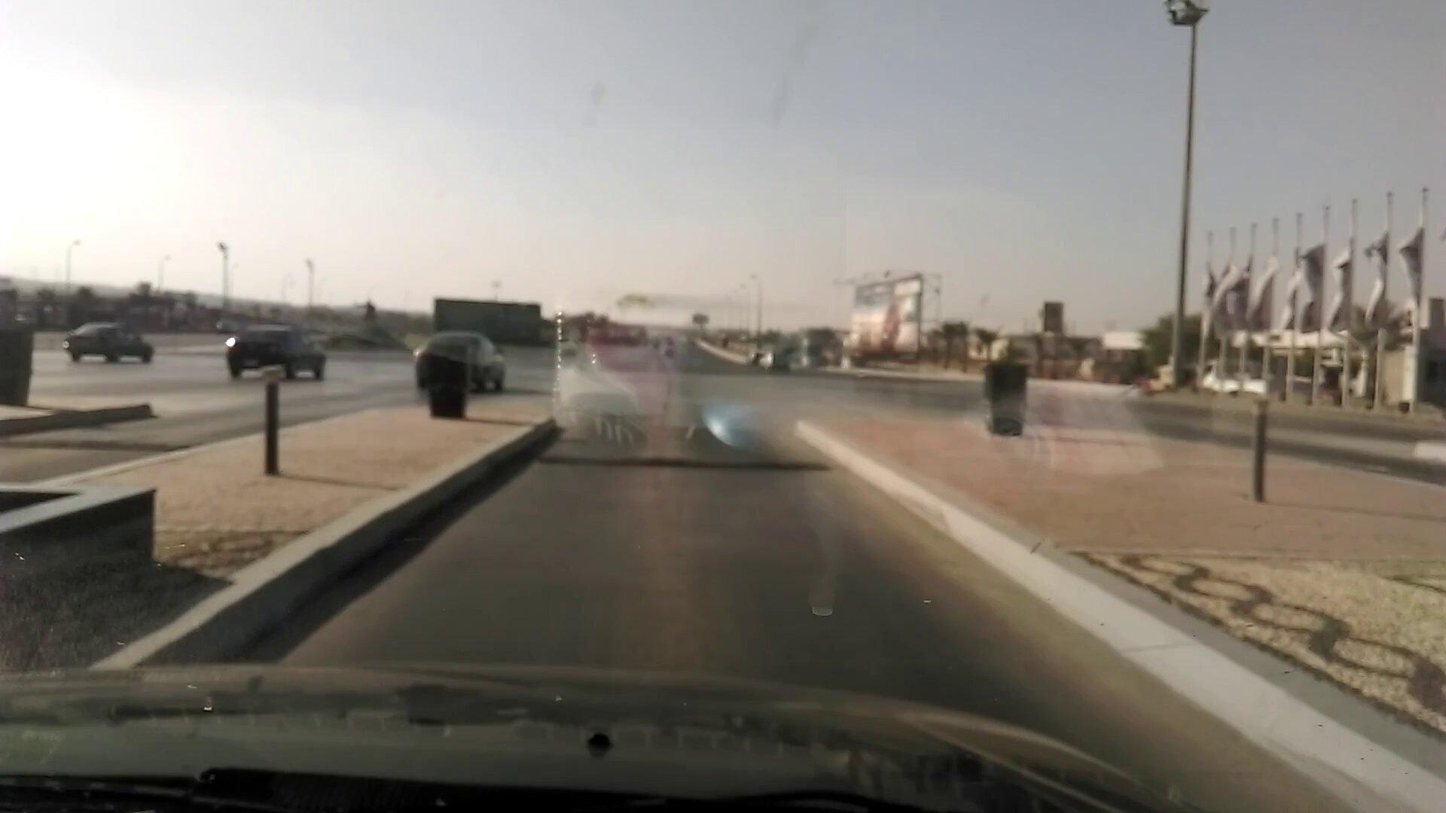Bump: (542, 450, 821, 480)
